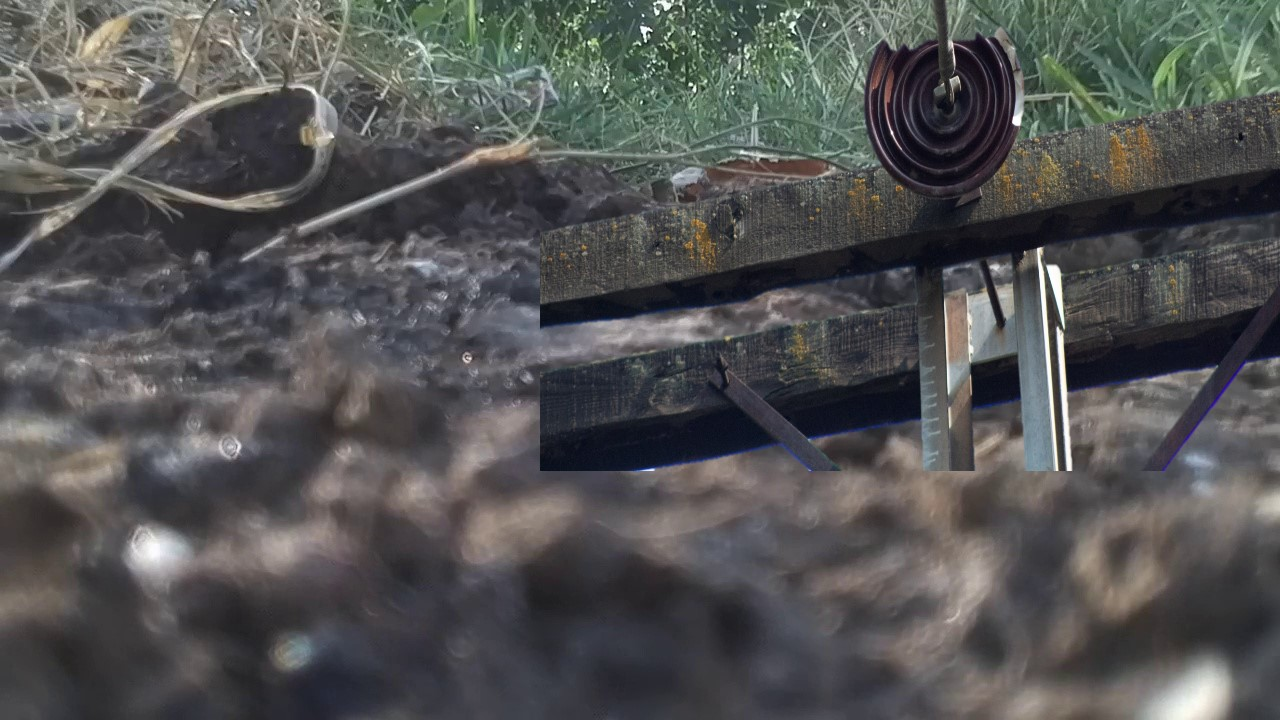defect_disc: (864, 26, 1033, 202)
